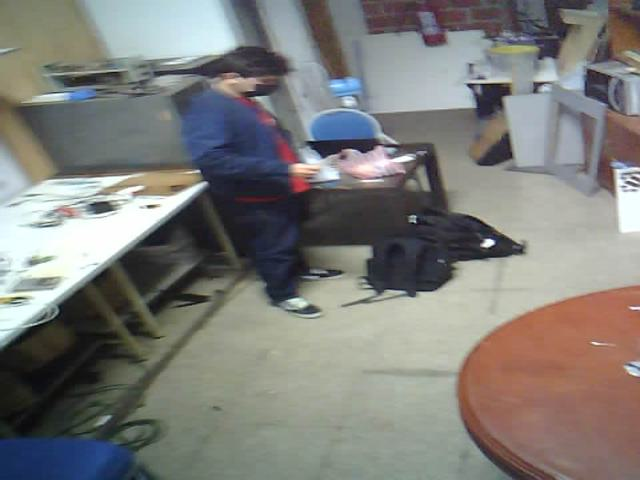person: (156, 19, 355, 330)
